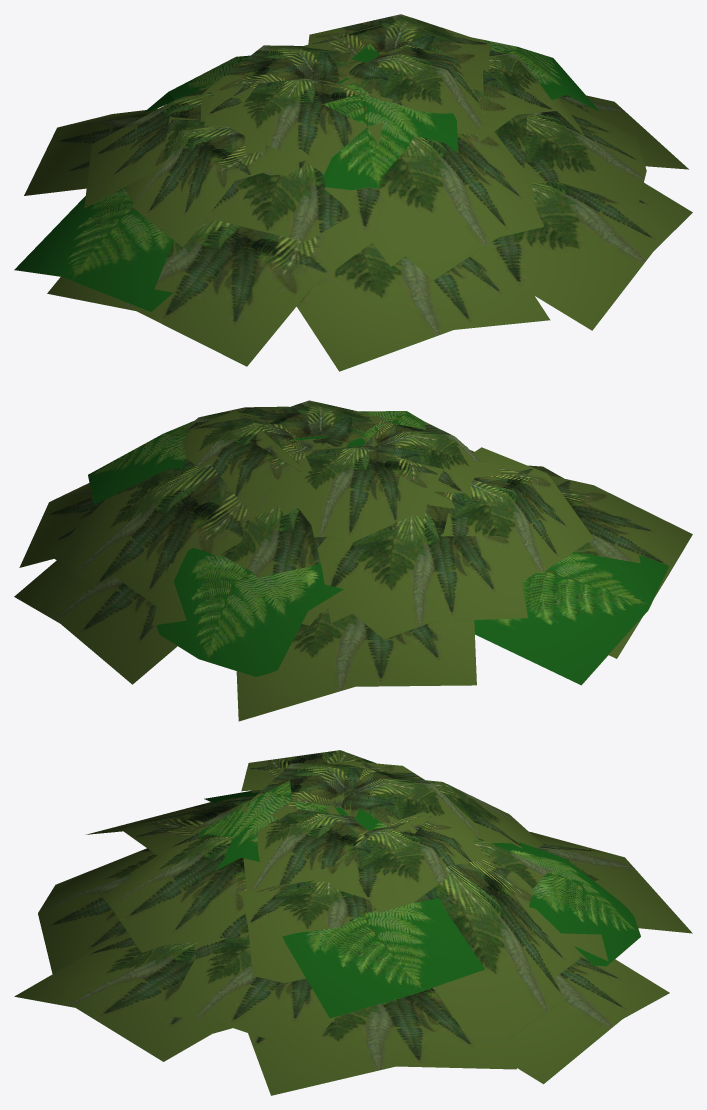
Rendered from ptch_endr_frst_cluster_a1_l1.fbx.
3 views of the same model, one above another, from view 1: azimuth 30°, elevation 25°; view 2: azimuth 150°, elevation 25°; view 3: azimuth 270°, elevation 25° (orthographic). The views are drawn at different scales.
Parts seen in each view (by area): view 1: mesh_node; view 2: mesh_node; view 3: mesh_node.
Part boxes in pixels (<box>): mesh_node: <box>14,14,692,371</box>; mesh_node: <box>14,400,692,721</box>; mesh_node: <box>14,750,692,1095</box>.
Size of the model in its own units: 6.26 by 1.69 by 6.16.
